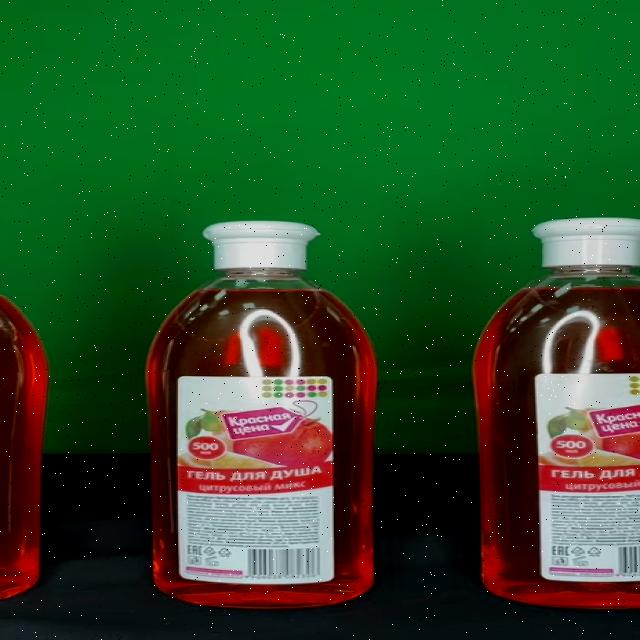Bottle: (145, 221, 378, 608)
Cap: (202, 222, 322, 268)
